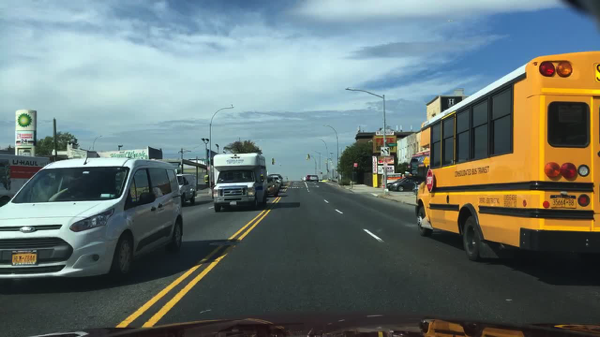bus: (411, 51, 599, 262), (1, 158, 54, 207)
car: (0, 158, 183, 282), (176, 174, 197, 206), (390, 179, 417, 194), (264, 175, 279, 198), (385, 182, 401, 191), (273, 173, 282, 189), (309, 175, 319, 182), (305, 174, 311, 182), (303, 175, 305, 182)
traffic sign: (381, 147, 390, 156), (387, 141, 397, 147), (353, 162, 358, 168)
truck: (212, 153, 267, 212)
